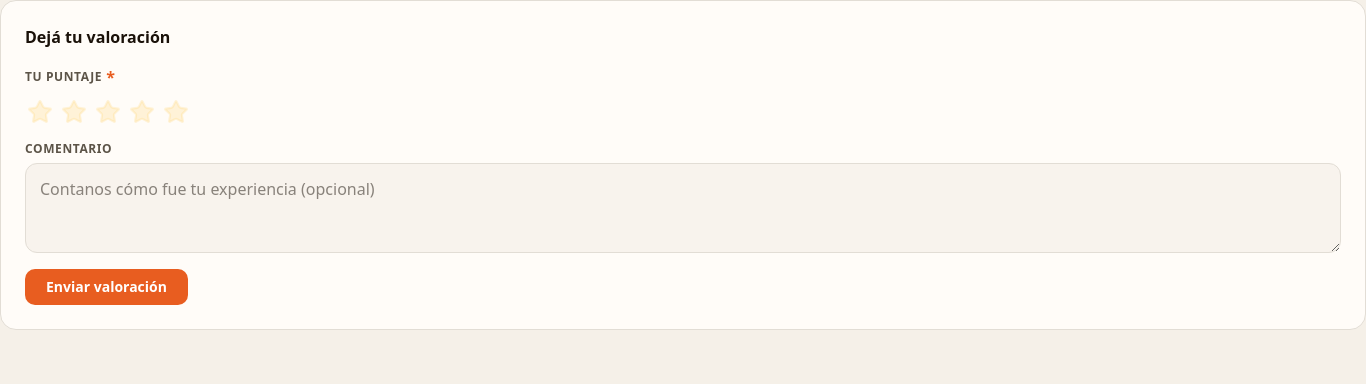
Test: RatingForm › shows a generic message when the activity no longer exists
Click the button named "3 estrellas" at (108, 112), box [93,97,123,127]
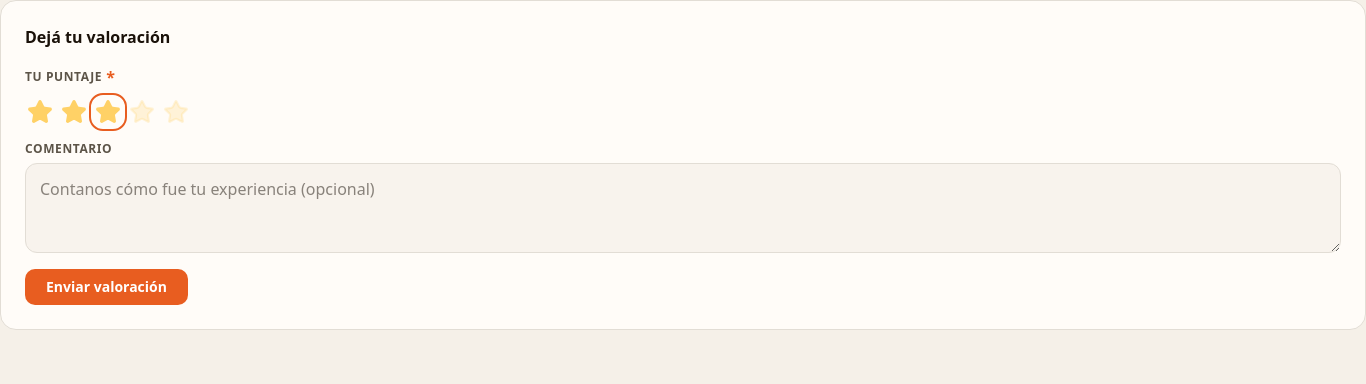
Click the button "Enviar valoración" at (106, 287), box [25,269,188,305]
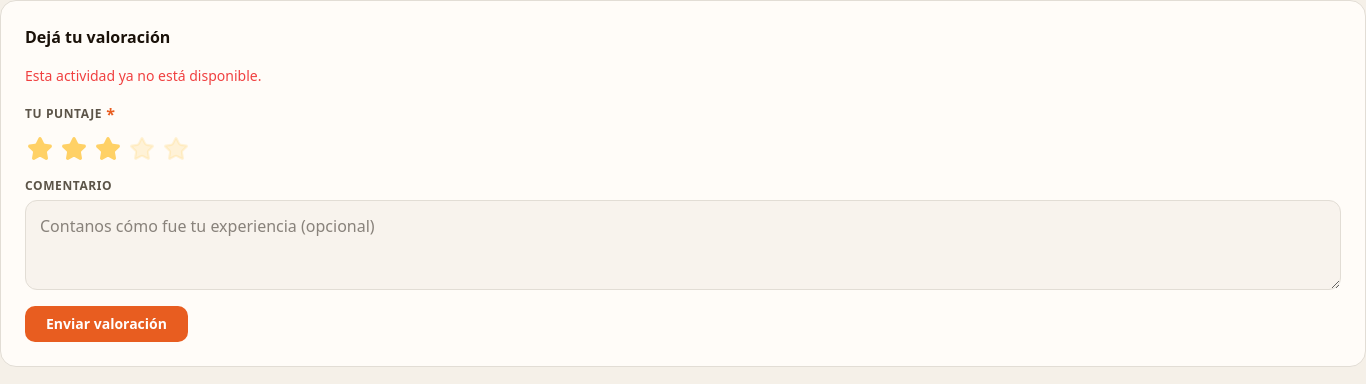
Expected: the text "Esta actividad ya no está disponible." is shown, [25,66,261,85]
